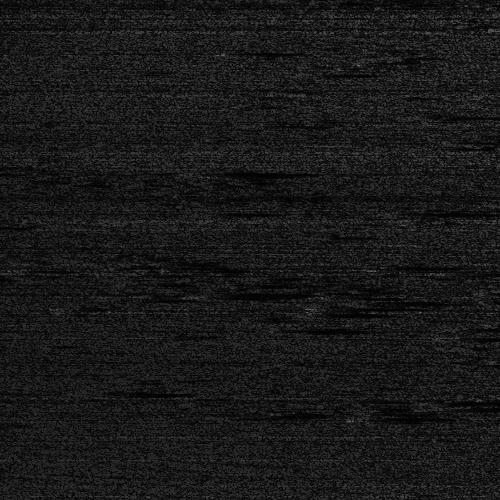object: (175, 168, 228, 177), (202, 288, 243, 297), (423, 389, 434, 408), (251, 323, 292, 328), (338, 299, 379, 304), (94, 388, 135, 393), (332, 414, 373, 419), (451, 335, 482, 338)
shadow: (223, 288, 318, 297), (202, 168, 294, 177), (359, 299, 444, 304), (115, 388, 200, 393), (353, 414, 438, 419), (429, 389, 451, 408), (272, 323, 331, 328), (439, 404, 500, 407), (466, 335, 500, 338)
